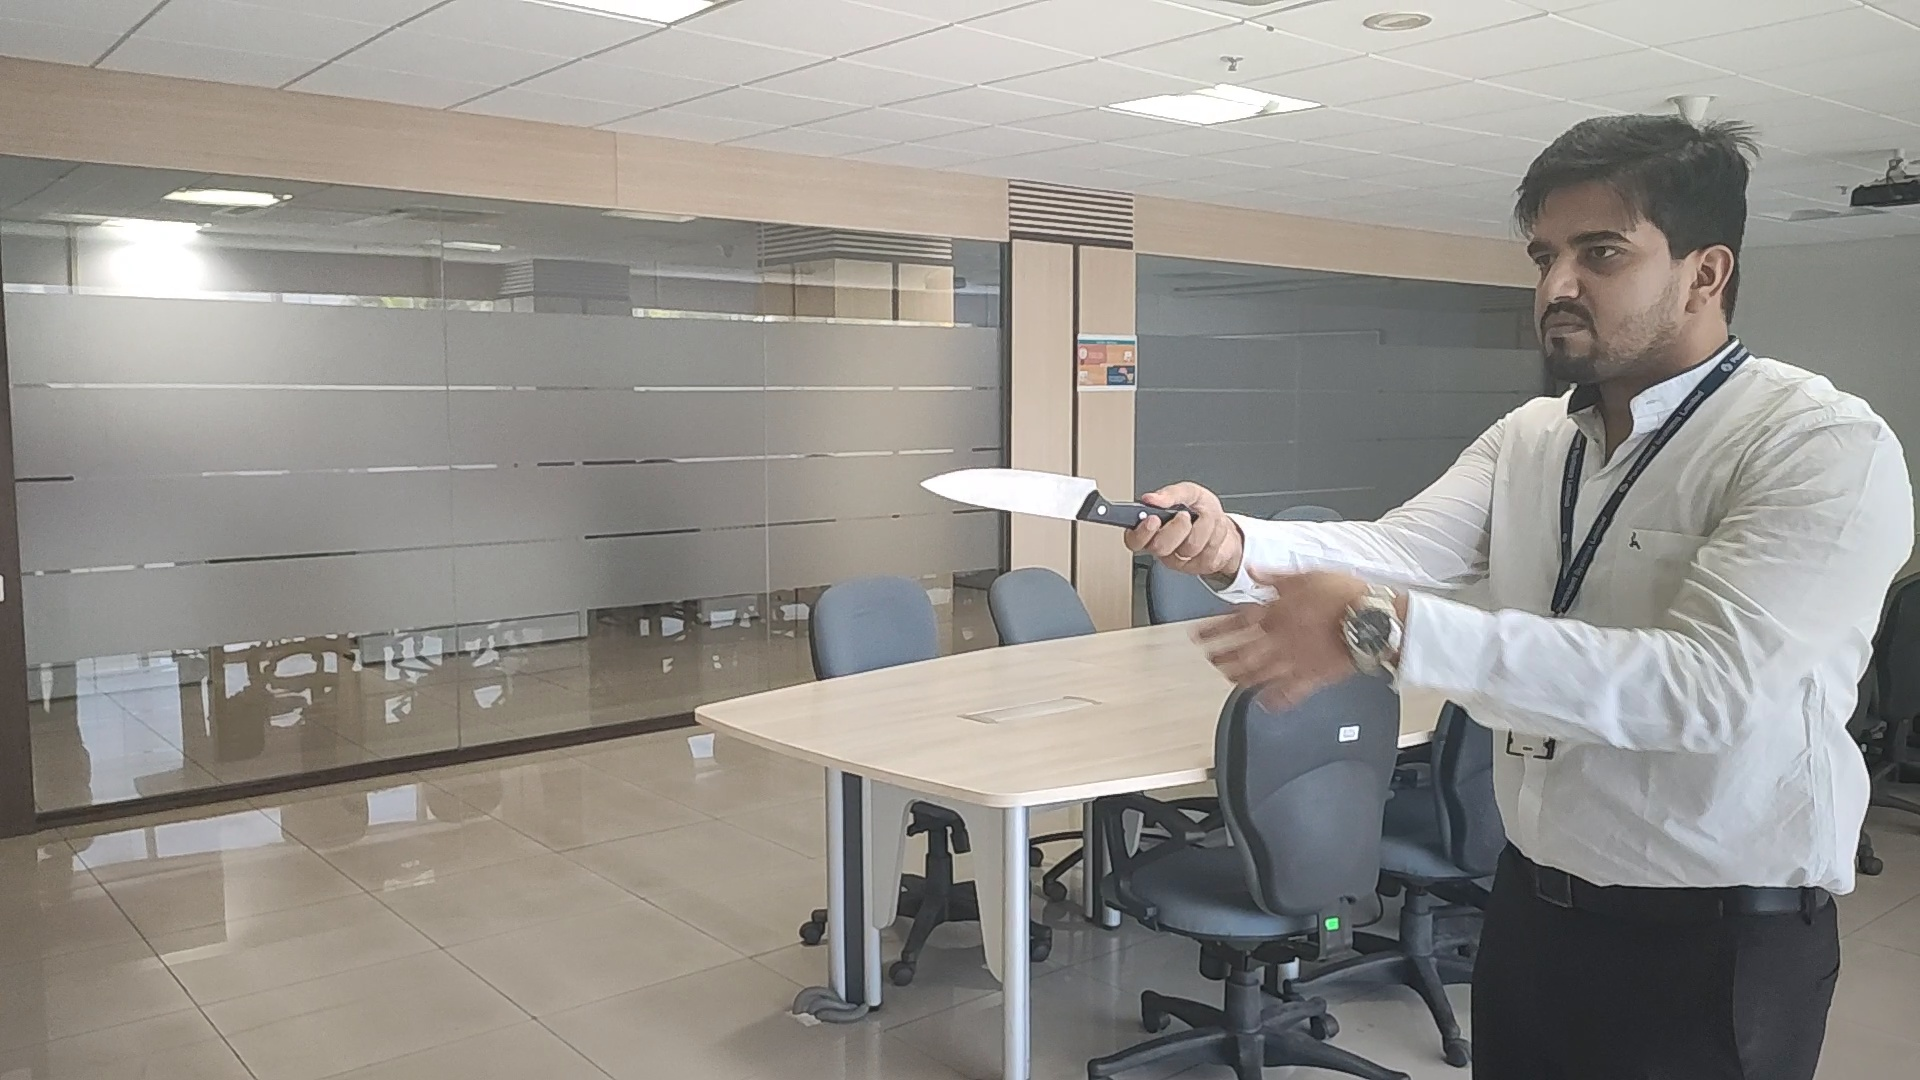knife: (920, 460, 1151, 535)
